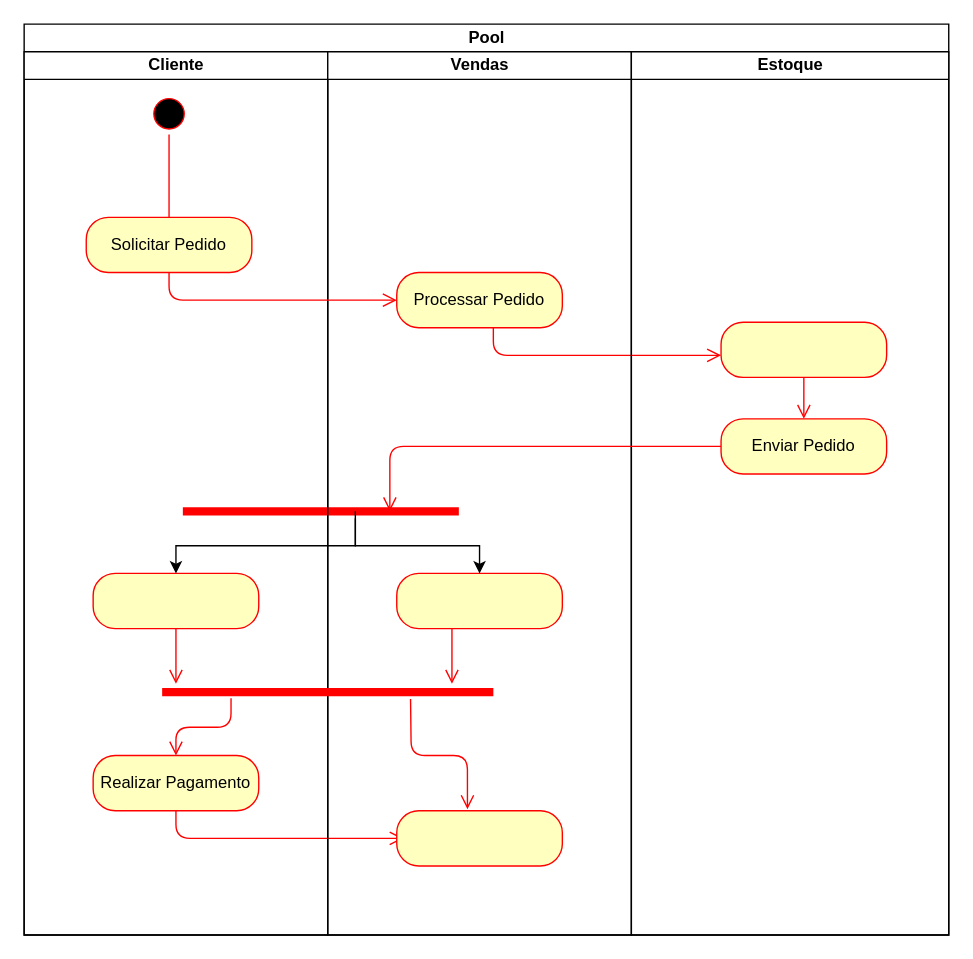
The diagram is 973 pixels wide and 959 high, and some of its shapes have lost their labels. The centre of each missing label's shape, as x and y in pixels:
"Cobrança" belongs at (478,600).
"Coletar Itens" belongs at (803,349).
"Finalizar pedido" belongs at (478,837).
"Receber Pedido" belongs at (175,600).
